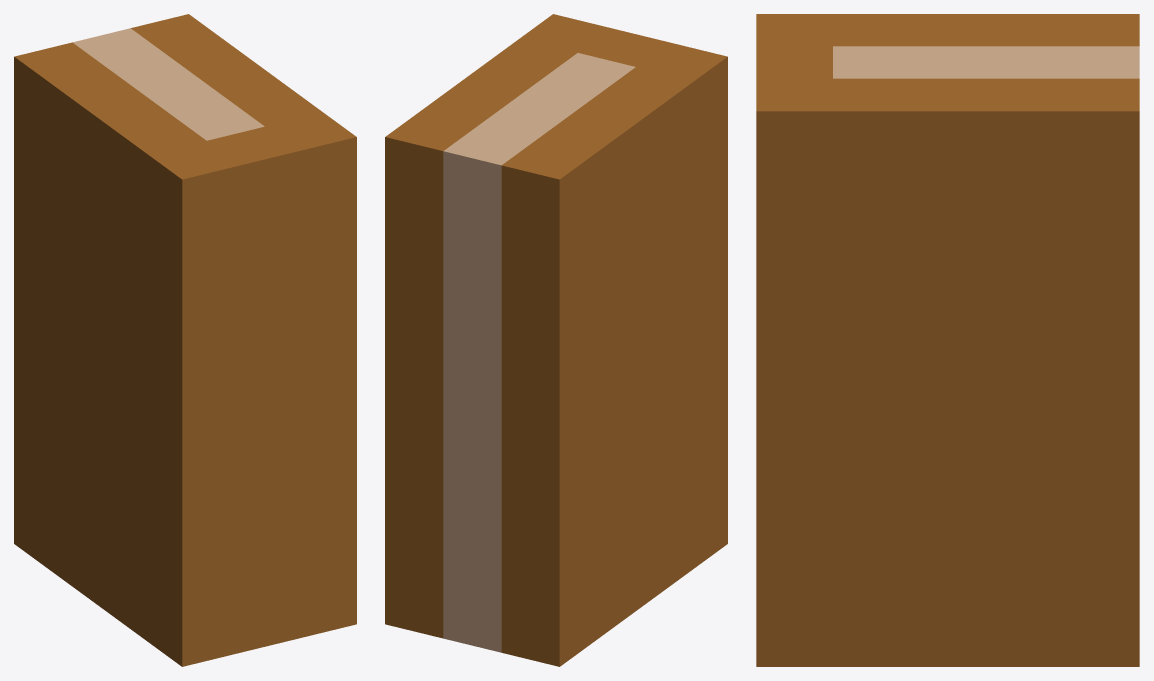
File: Livre 5.obj
3 renders of one model, left to right at view 1: azimuth 30°, elevation 25°; view 2: azimuth 150°, elevation 25°; view 3: azimuth 270°, elevation 25°, orthographic. The views are drawn at different scales.
Parts seen in each view (by area): view 1: Livre 5; view 2: Livre 5; view 3: Livre 5.
Part boxes in pixels (x1=…): Livre 5: x1=14, y1=14, x2=356, y2=666; Livre 5: x1=385, y1=14, x2=727, y2=666; Livre 5: x1=756, y1=14, x2=1139, y2=666.
Bounding box in the file's own units: 3 × 8 × 5.
1 material, 1 textured.
